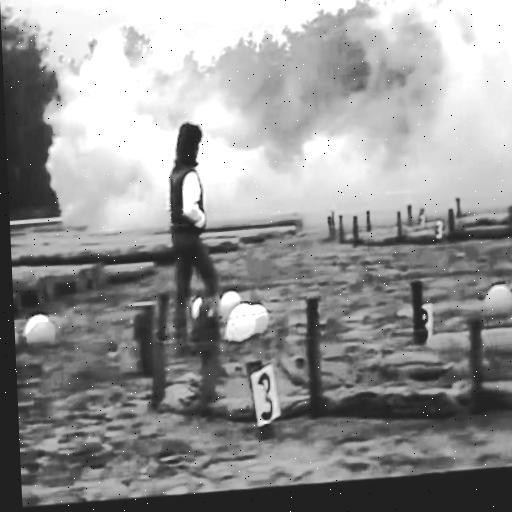balloon: (21, 311, 57, 353), (224, 301, 257, 346), (484, 282, 512, 321), (249, 296, 269, 338), (218, 290, 244, 319), (192, 294, 219, 320)
